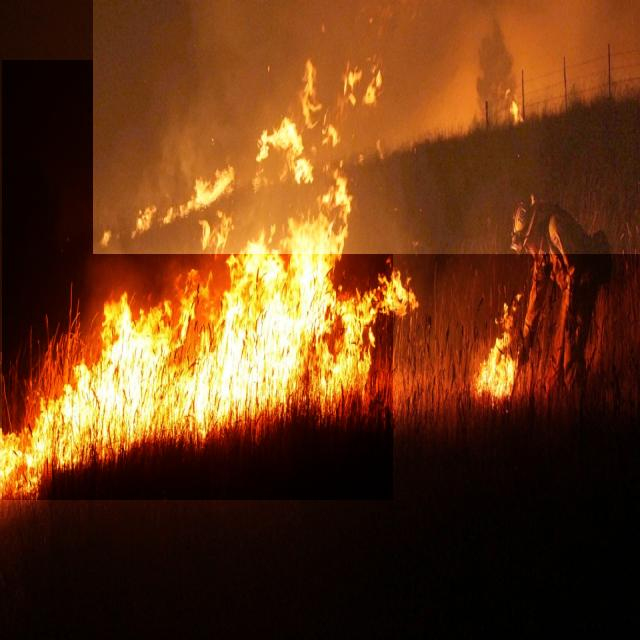Fire: (2, 60, 393, 500)
Smoke: (93, 0, 640, 254)
